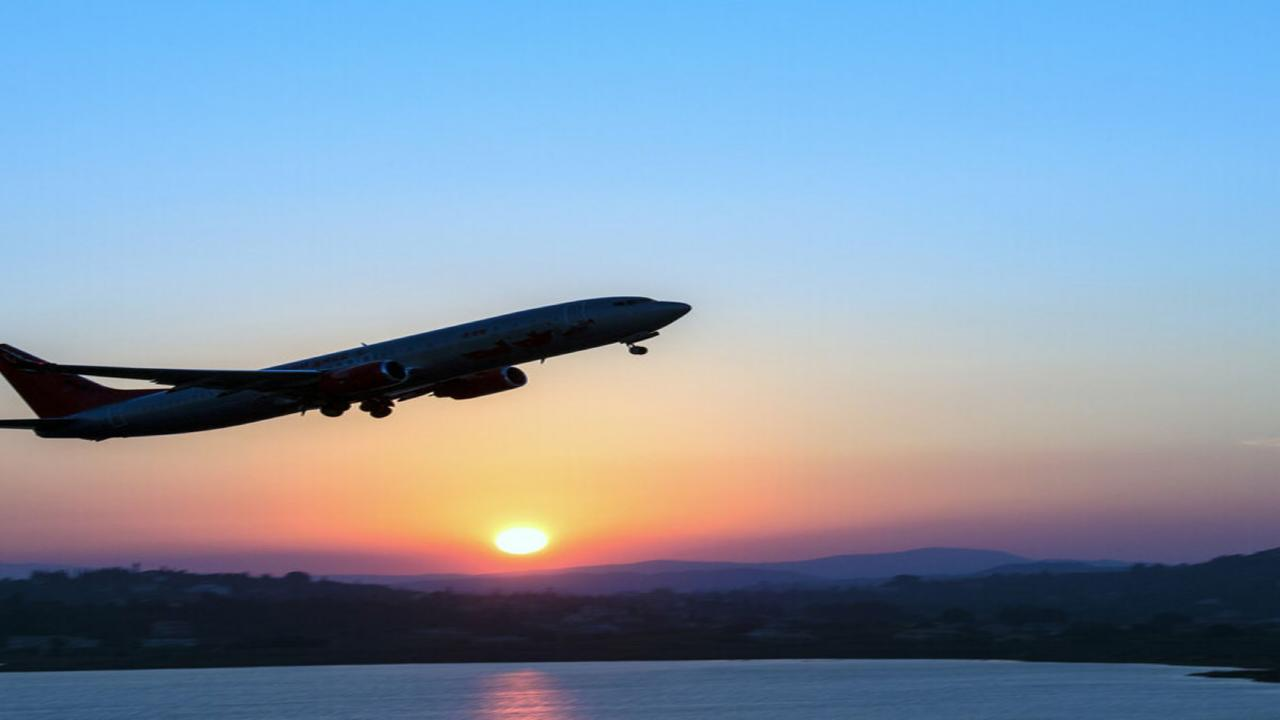Airplane: (0, 283, 708, 460)
